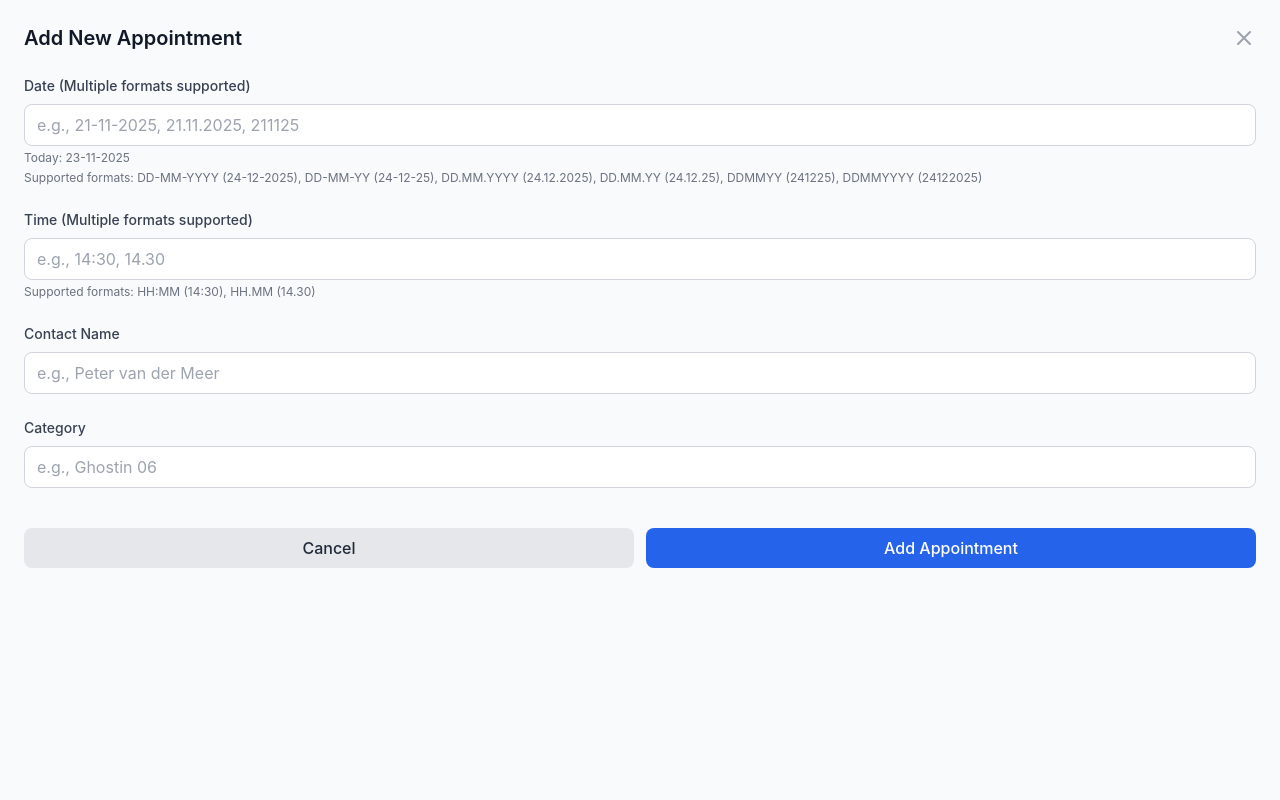
AddAppointmentForm Component › validates date format
The width and height of the screenshot is (1280, 800).
Type "invalid-date" into the field labelled "Date (Multiple formats supported)" at (640, 125), box x1=24 y1=104 x2=1256 y2=146
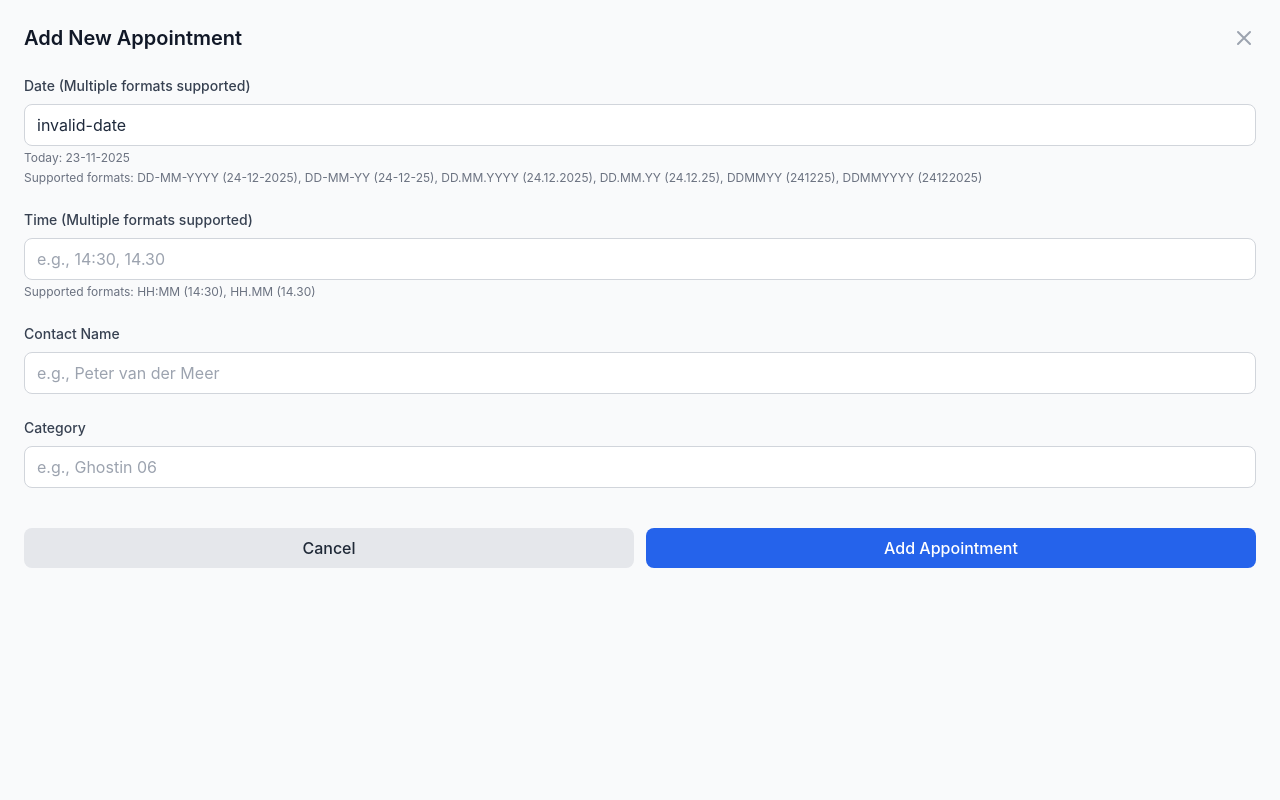
Click the button "Add Appointment" at (951, 548), box x1=646 y1=528 x2=1256 y2=568
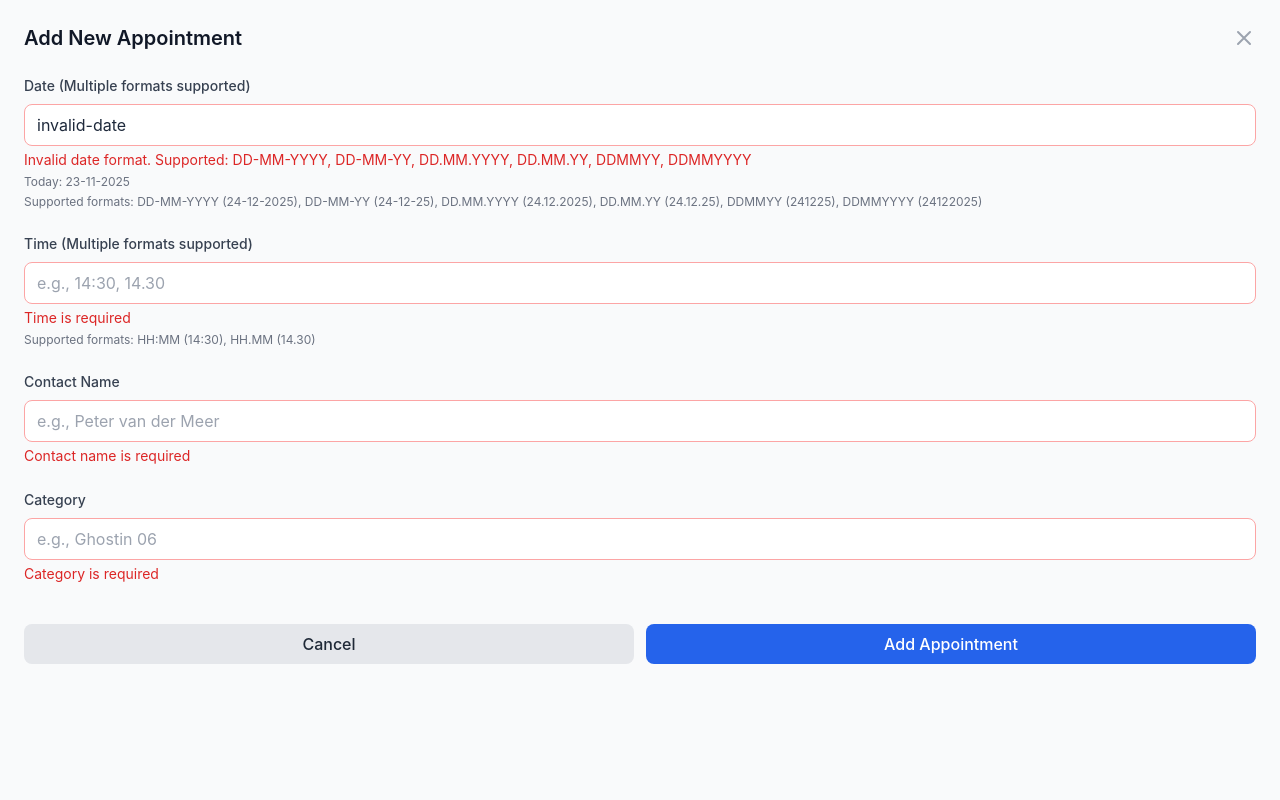
Now the text "Invalid date format" is shown, box x1=24 y1=151 x2=752 y2=168
